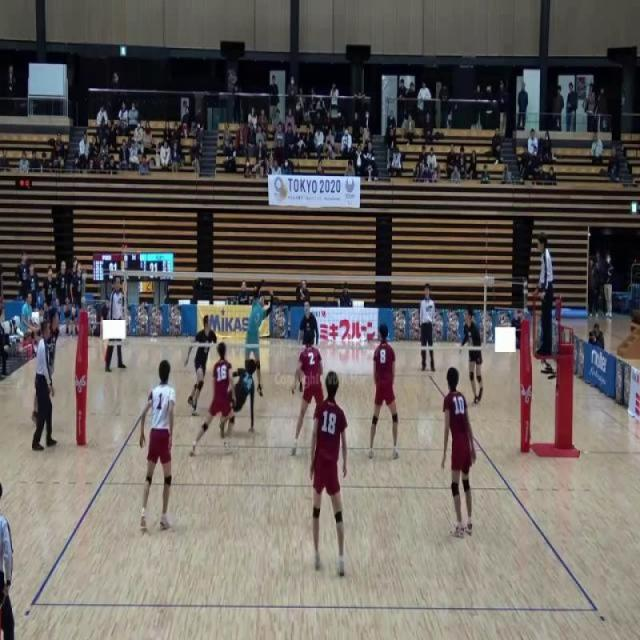volleyball: (279, 183, 288, 200)
